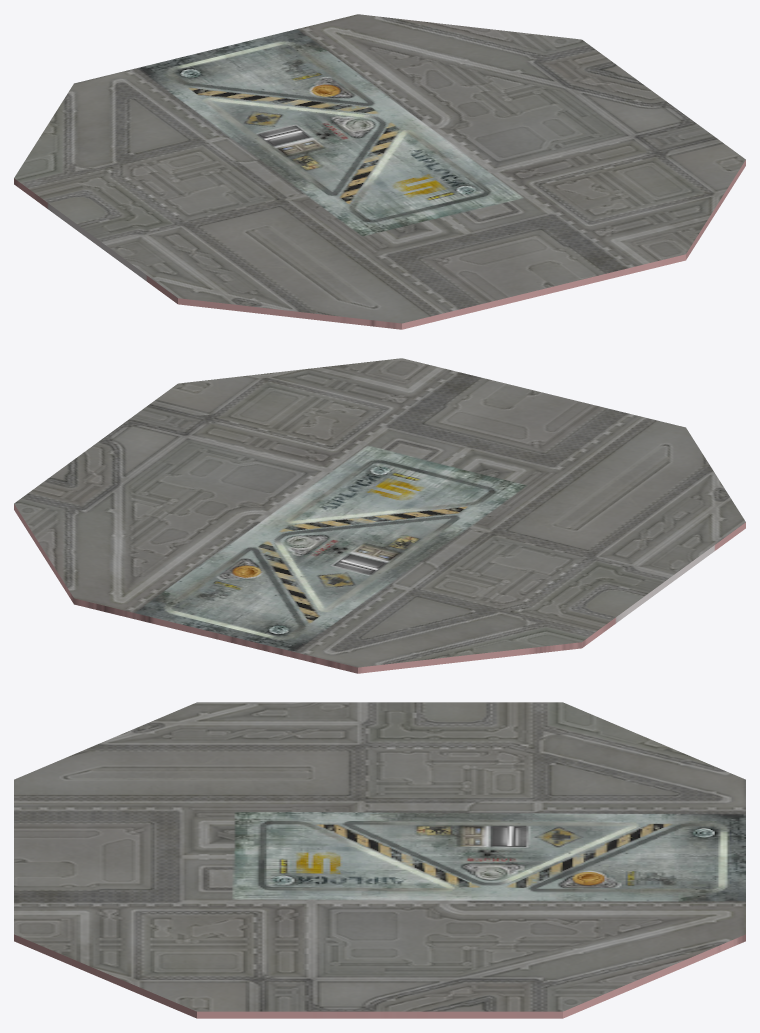
The model's file is endcapbetterdoor.fbx.
3 renders of one model, top to bottom at view 1: azimuth 30°, elevation 25°; view 2: azimuth 150°, elevation 25°; view 3: azimuth 270°, elevation 25°, orthographic. The views are drawn at different scales.
Parts seen in each view (by area): view 1: Plane; view 2: Plane; view 3: Plane.
Part boxes in pixels (left/top/right/bottom): Plane: left=14, top=14, right=745, bottom=329; Plane: left=14, top=358, right=745, bottom=673; Plane: left=14, top=702, right=745, bottom=1018.
Bounding box in the file's own units: 200 × 2.1 × 200.
